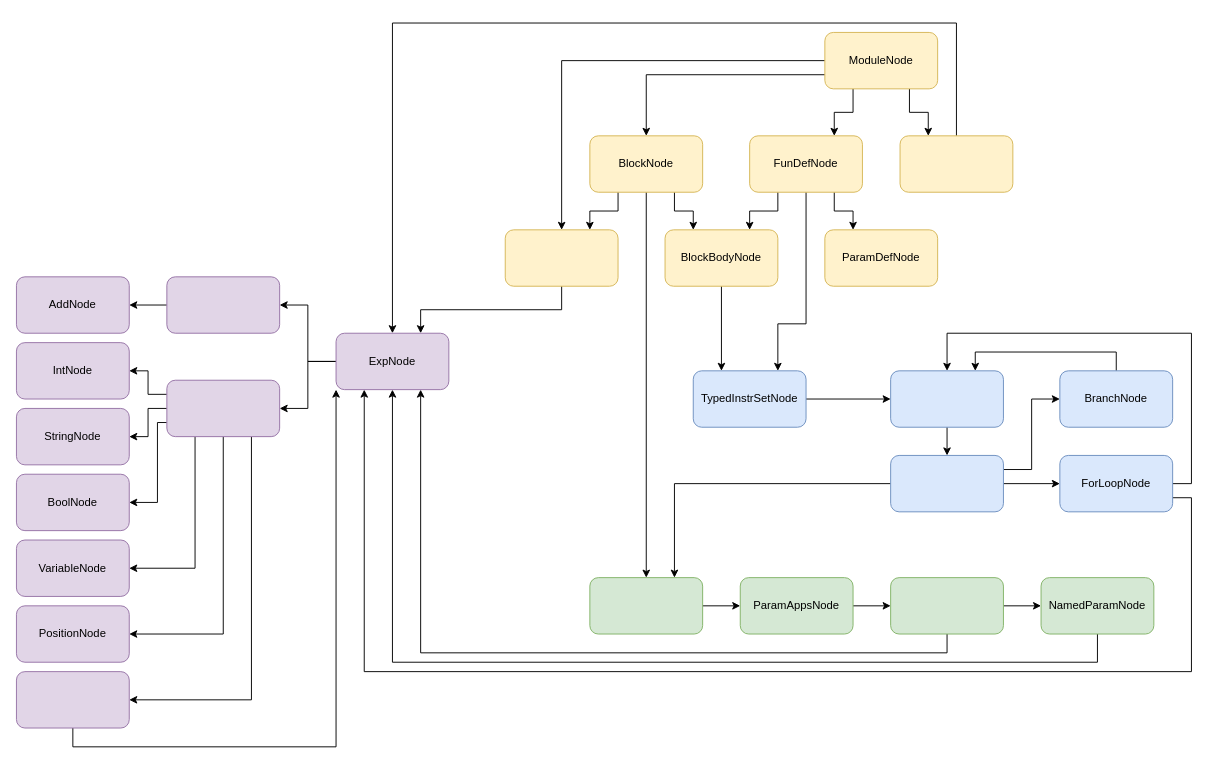
Some shapes in this 1215 by 771 pixel diagram are drawn without their labels. Each missing label, with the centre of its shape:
"CompositeInstrNode" belongs at [946,483].
"ConstDefNode" belongs at [956,163].
"InstrSetNode" belongs at [946,398].
"InstructionNode" belongs at [646,605].
"ListNode" belongs at [72,699].
"MetadataNode" belongs at [561,257].
"OperationNode" belongs at [223,304].
"PositionalParamNode" belongs at [946,605].
"ValueNode" belongs at [223,408].
